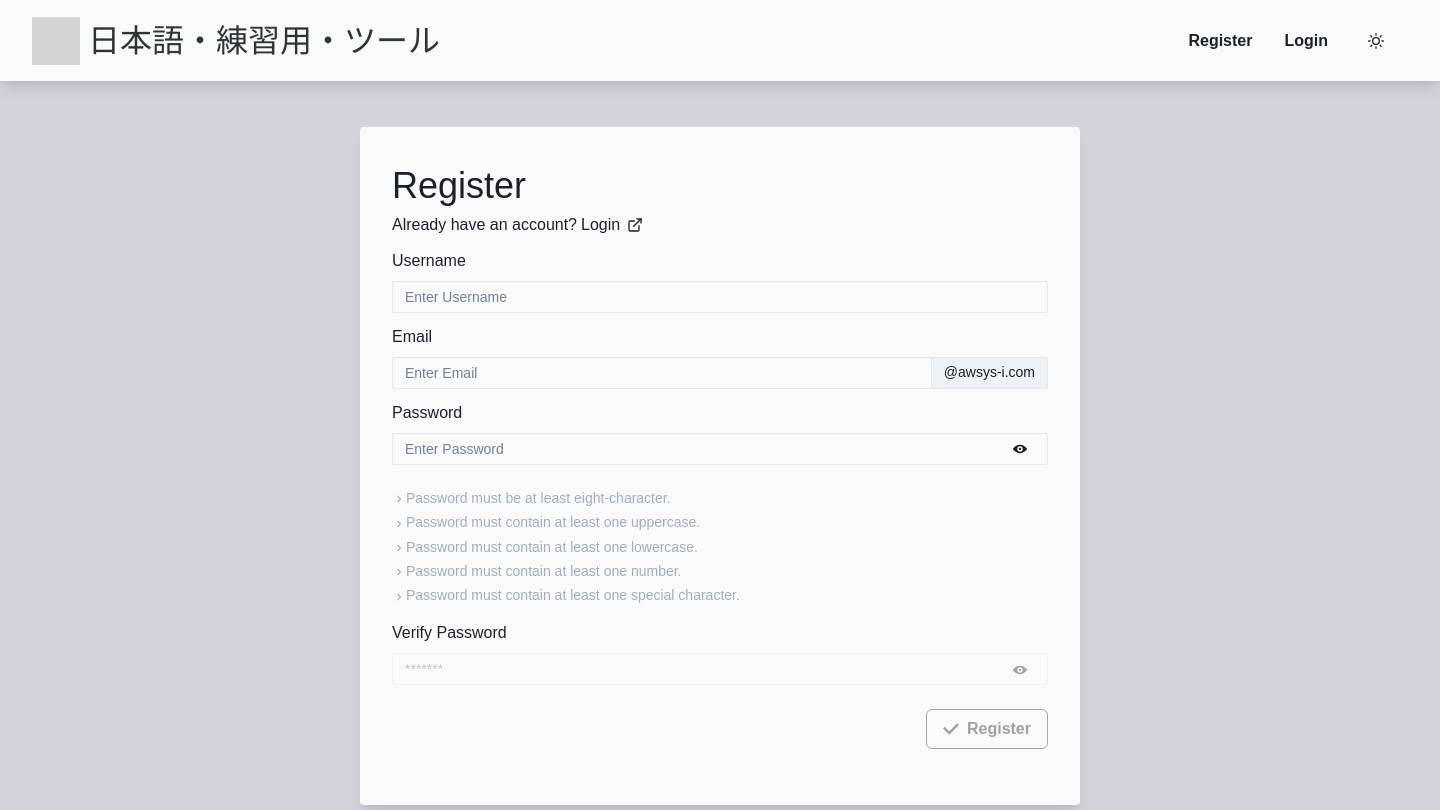
-------------- Register Vitest Testing -------------- › -------------- Unit Testing -------------- › VITEST_UT_REGISTER-400 Verify if Verify Password is unmatched error is shown › VITEST_UT_REGISTER-401 Should Input unmatched password and check if error is shown and register button is disabled
The image size is (1440, 810).
In the password field with placeholder "Enter Password": (720, 448) left=392, top=432, right=1048, bottom=464, type "Test@123"
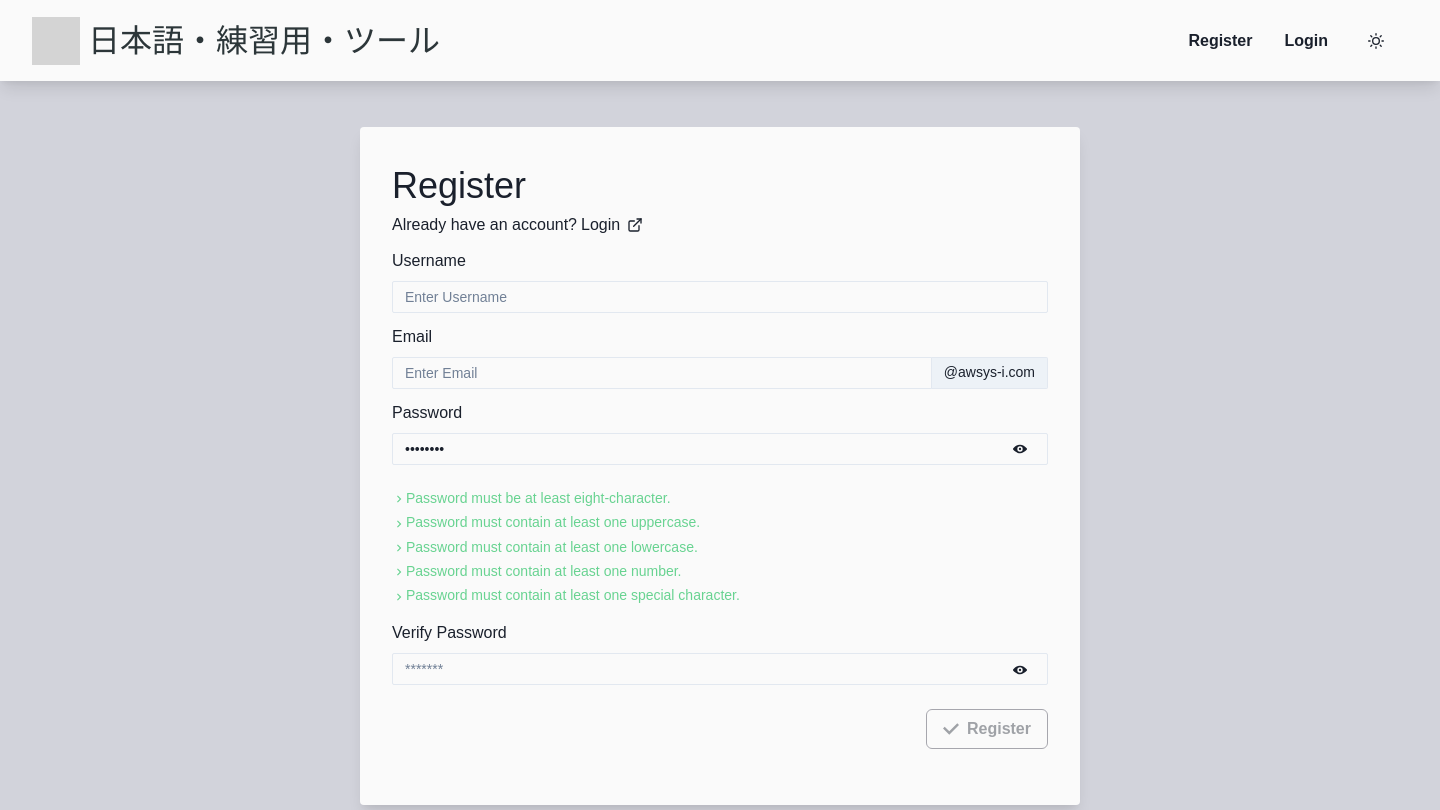
In the password field with placeholder "*******": (720, 669) left=392, top=653, right=1048, bottom=685, type "Test@12"
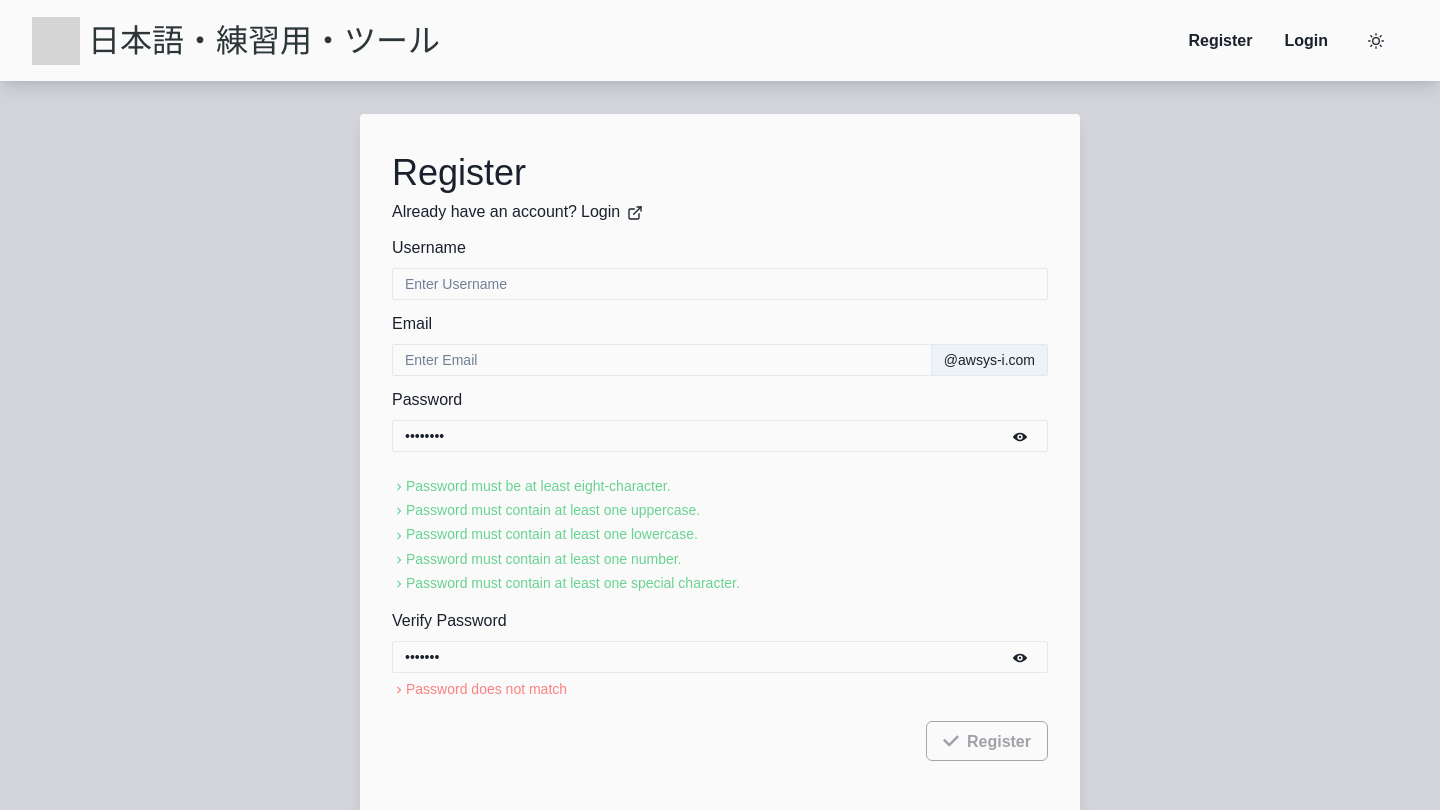
Expected: the button with test id "register-button" is disabled, left=926, top=721, right=1048, bottom=761
Expected: the text "Password does not match" is shown, left=392, top=681, right=567, bottom=697
